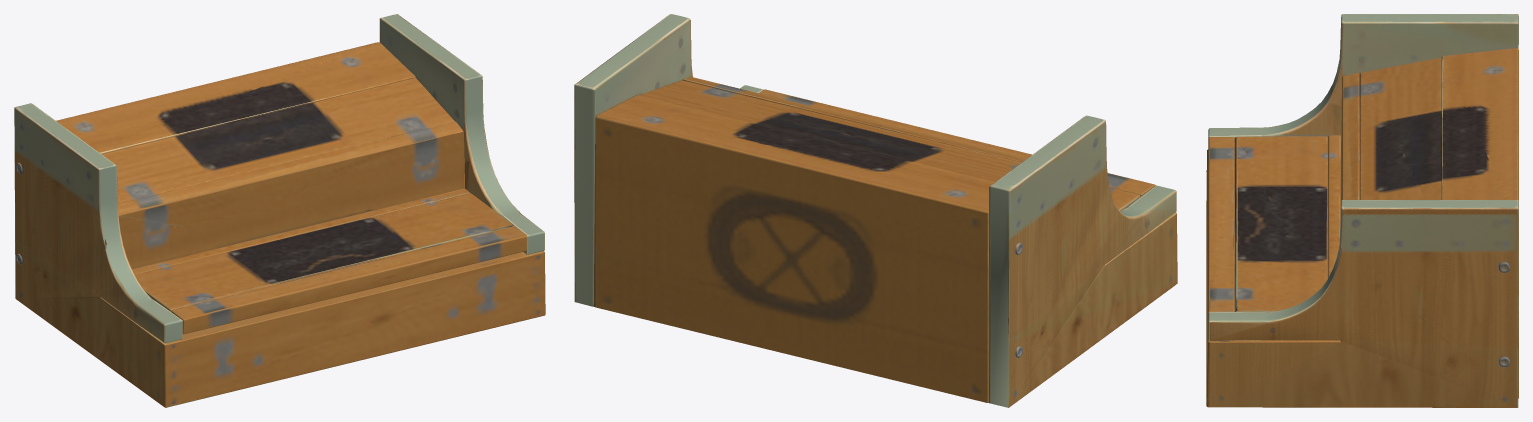
The model's file is mounting_block.glb.
3 renders of one model, left to right at view 1: azimuth 30°, elevation 25°; view 2: azimuth 150°, elevation 25°; view 3: azimuth 270°, elevation 25°, orthographic. The views are drawn at different scales.
Parts seen in each view (by area): view 1: mounting_block; view 2: mounting_block; view 3: mounting_block.
Part boxes in pixels (x1,y1,x2,y2): mounting_block: [14, 14, 545, 407]; mounting_block: [574, 14, 1177, 407]; mounting_block: [1206, 14, 1518, 407].
Size of the model in its own units: 1.37 by 0.65 by 0.9191.
1 material, 1 textured.
